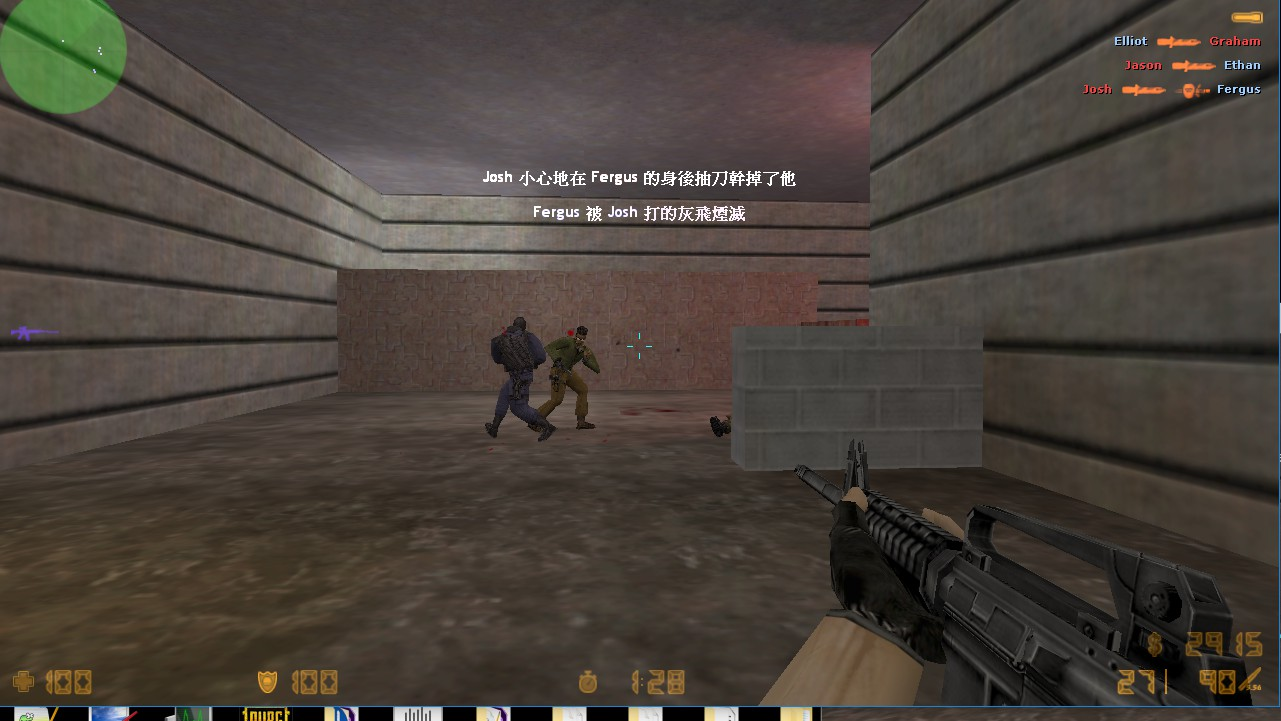person: (488, 313, 542, 436), (542, 318, 599, 431)
